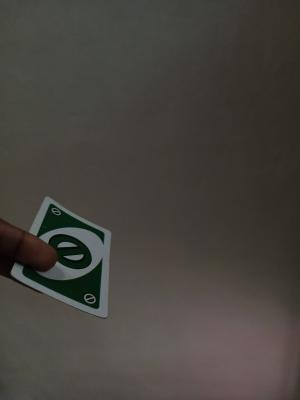green: (45, 216, 103, 300)
skip: (80, 292, 98, 305), (50, 206, 64, 218)
